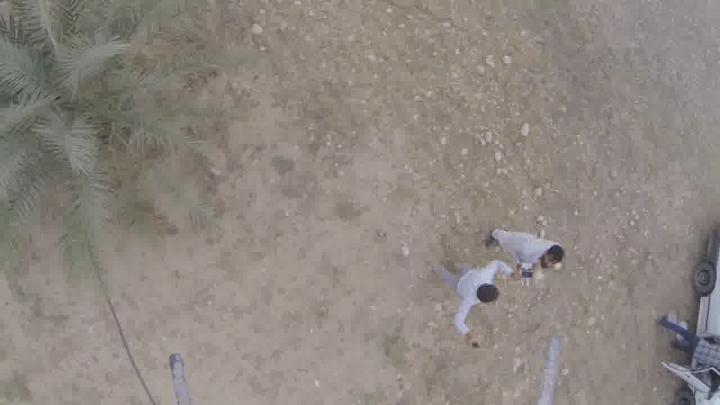Date-Palm-Crown: (0, 22, 156, 214)
